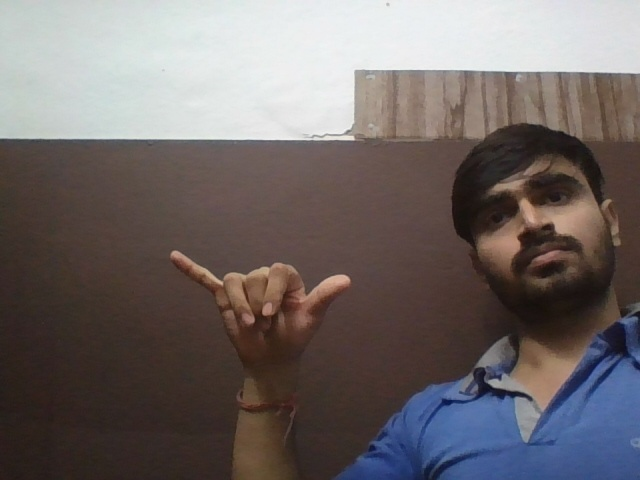Y: (170, 234, 349, 360)
